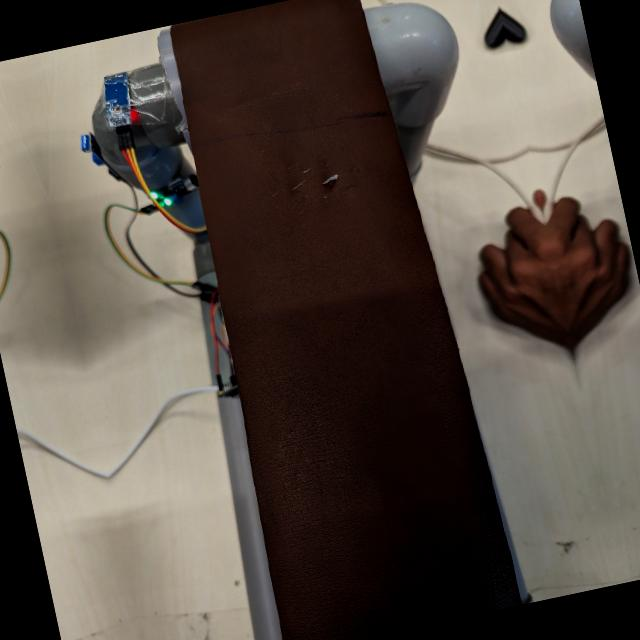belt_crack: (242, 119, 391, 227)
